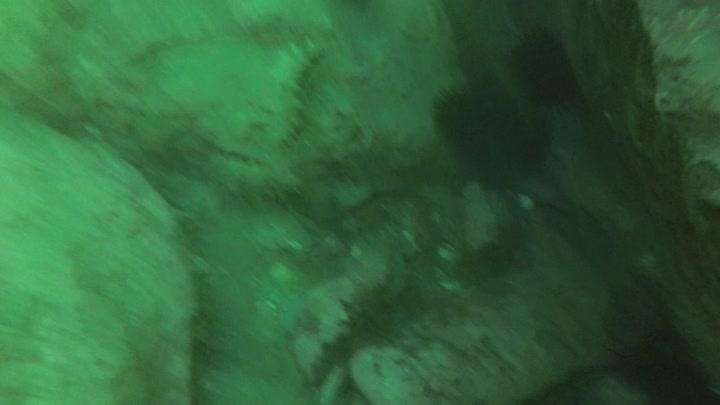echinus: (432, 79, 548, 185), (507, 26, 581, 107)
holothurian: (258, 33, 325, 148)
